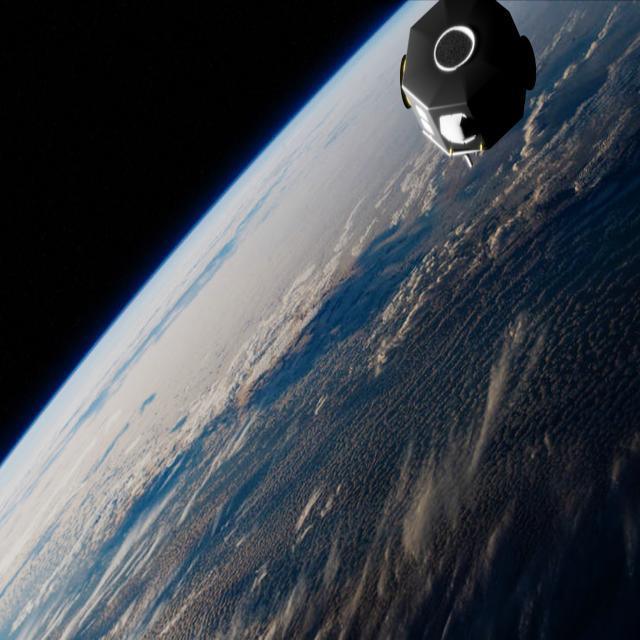satellite: (377, 0, 563, 185)
